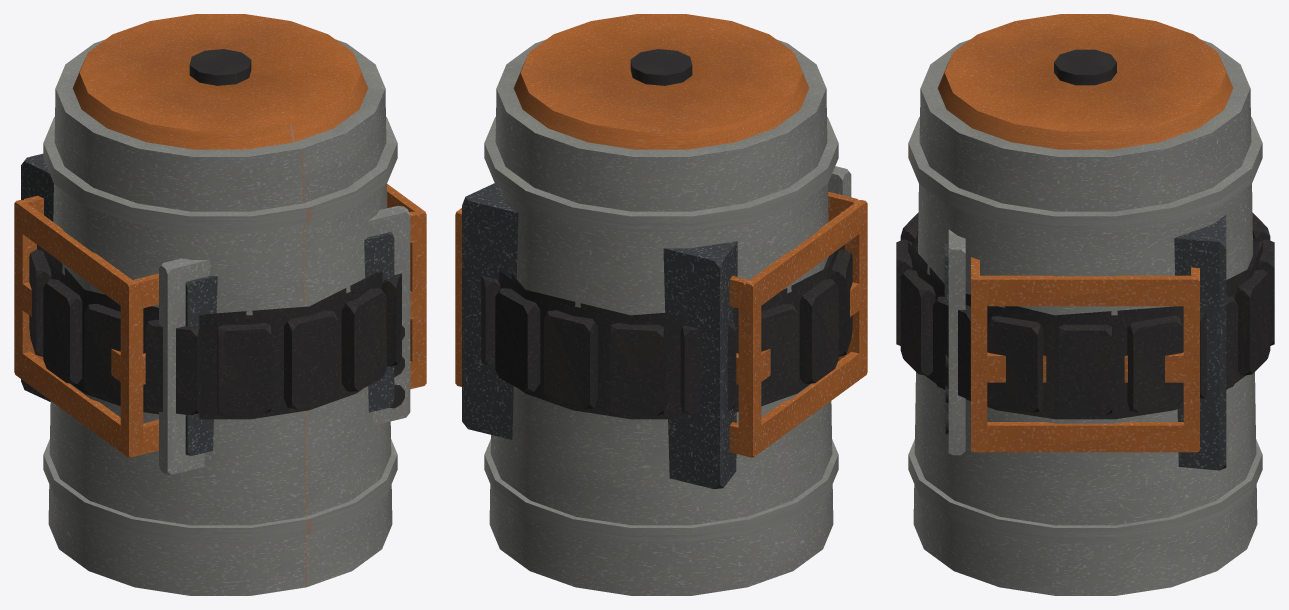
File: propsSynthetic.glb
The picture shows the model from 3 angles, left to right: view 1: azimuth 30°, elevation 25°; view 2: azimuth 150°, elevation 25°; view 3: azimuth 270°, elevation 25°; orthographic projection.
Parts seen in each view (by area): view 1: chunk_2, plasticDrum_lod0_v0, tire_lod0_v0, chunk_5 (×2), plasticCrate_lod0_v0, crtTelevision_lod1_v0, chunk_4 (×3), chunk_3 (×2), chunk_0, crtTelevision_lod0_v0, tire_lod1_v0; view 2: plasticDrum_lod0_v0, chunk_2, tire_lod0_v0, crtTelevision_lod1_v0, chunk_5 (×2), plasticCrate_lod0_v0, chunk_0 (×3), chunk_3, crtTelevision_lod0_v0, chunk_4 (×2), tire_lod1_v0; view 3: plasticDrum_lod0_v0, chunk_2 (×2), tire_lod0_v0, plasticCrate_lod0_v0, chunk_3 (×2), crtTelevision_lod0_v0, chunk_0 (×2), chunk_4, crtTelevision_lod1_v0, chunk_5, tire_lod1_v0.
Part boxes in pixels (left/top/right/bottom): chunk_2: left=48, top=112, right=392, bottom=595; plasticDrum_lod0_v0: left=50, top=14, right=392, bottom=595; tire_lod0_v0: left=29, top=245, right=401, bottom=419; chunk_5 (×2): left=14, top=49, right=251, bottom=456; plasticCrate_lod0_v0: left=14, top=213, right=426, bottom=457; crtTelevision_lod1_v0: left=21, top=153, right=410, bottom=474; chunk_4 (×3): left=72, top=55, right=418, bottom=457; chunk_3 (×2): left=43, top=117, right=426, bottom=361; chunk_0: left=43, top=439, right=397, bottom=543; crtTelevision_lod0_v0: left=21, top=161, right=407, bottom=472; tire_lod1_v0: left=47, top=252, right=378, bottom=315; plasticDrum_lod0_v0: left=489, top=14, right=831, bottom=595; chunk_2: left=489, top=112, right=833, bottom=595; tire_lod0_v0: left=481, top=245, right=852, bottom=419; crtTelevision_lod1_v0: left=462, top=171, right=851, bottom=489; chunk_5 (×2): left=630, top=49, right=867, bottom=457; plasticCrate_lod0_v0: left=455, top=213, right=861, bottom=457; chunk_0 (×3): left=469, top=190, right=838, bottom=543; chunk_3: left=484, top=117, right=838, bottom=231; crtTelevision_lod0_v0: left=466, top=166, right=848, bottom=487; chunk_4 (×2): left=513, top=55, right=867, bottom=351; tire_lod1_v0: left=511, top=267, right=827, bottom=315; plasticDrum_lod0_v0: left=908, top=14, right=1262, bottom=575; chunk_2 (×2): left=913, top=88, right=1257, bottom=595; tire_lod0_v0: left=896, top=212, right=1274, bottom=419; plasticCrate_lod0_v0: left=971, top=279, right=1199, bottom=452; chunk_3 (×2): left=908, top=117, right=1262, bottom=451; crtTelevision_lod0_v0: left=945, top=215, right=1226, bottom=470; chunk_0 (×2): left=908, top=218, right=1262, bottom=543; chunk_4: left=942, top=72, right=1230, bottom=149; crtTelevision_lod1_v0: left=948, top=215, right=1226, bottom=470; chunk_5: left=1054, top=49, right=1116, bottom=82; tire_lod1_v0: left=908, top=242, right=1251, bottom=315.
Size of what is drawn, in the model's own units: 0.6603 by 0.89 by 0.6603.
2 materials, 1 textured.
